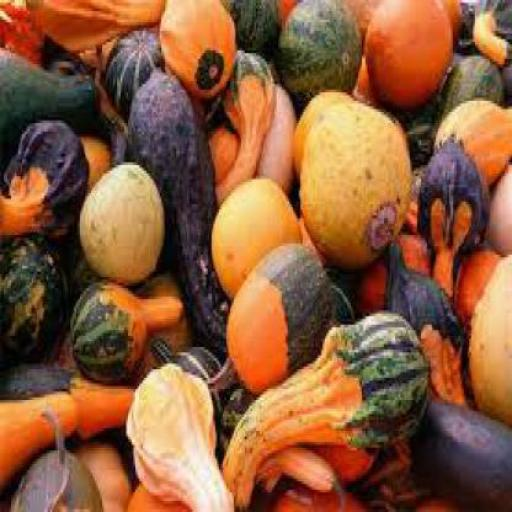biodegradable: (0, 0, 511, 510), (219, 308, 427, 507), (126, 62, 225, 350), (299, 101, 410, 263), (122, 358, 234, 510), (221, 241, 332, 392), (0, 369, 134, 490), (66, 277, 184, 380), (0, 44, 98, 164), (414, 392, 510, 510), (210, 174, 300, 296), (76, 157, 165, 280), (0, 112, 87, 237), (418, 132, 484, 296), (5, 403, 98, 509), (359, 436, 490, 509), (363, 0, 452, 107), (210, 45, 272, 193), (0, 234, 68, 364), (273, 0, 360, 101), (26, 0, 164, 62), (466, 246, 510, 426), (157, 0, 237, 98), (432, 95, 511, 193), (352, 227, 431, 316), (252, 439, 344, 501), (294, 84, 352, 176), (262, 440, 374, 486), (105, 26, 161, 114), (434, 53, 501, 123), (150, 336, 223, 398), (75, 430, 131, 510), (258, 76, 295, 190), (455, 238, 503, 322), (266, 475, 368, 510), (53, 215, 93, 299), (39, 28, 96, 84), (459, 0, 510, 62), (219, 0, 278, 53), (214, 380, 250, 453), (396, 95, 438, 157), (0, 358, 73, 392), (0, 0, 41, 59), (484, 159, 510, 252), (96, 84, 128, 156), (124, 478, 197, 509), (206, 123, 240, 182), (293, 207, 325, 263), (349, 47, 376, 109), (344, 0, 380, 42), (78, 132, 110, 178), (439, 0, 459, 57), (264, 0, 296, 26), (400, 187, 418, 227), (497, 54, 510, 106)
